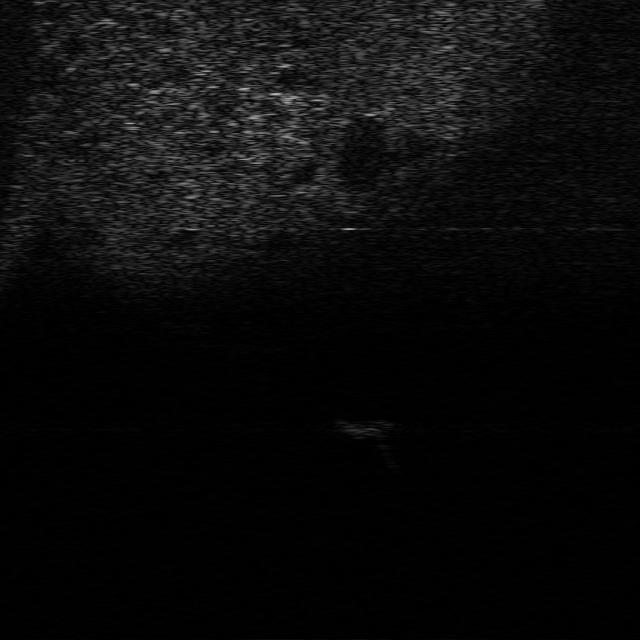cube: (332, 416, 393, 439)
